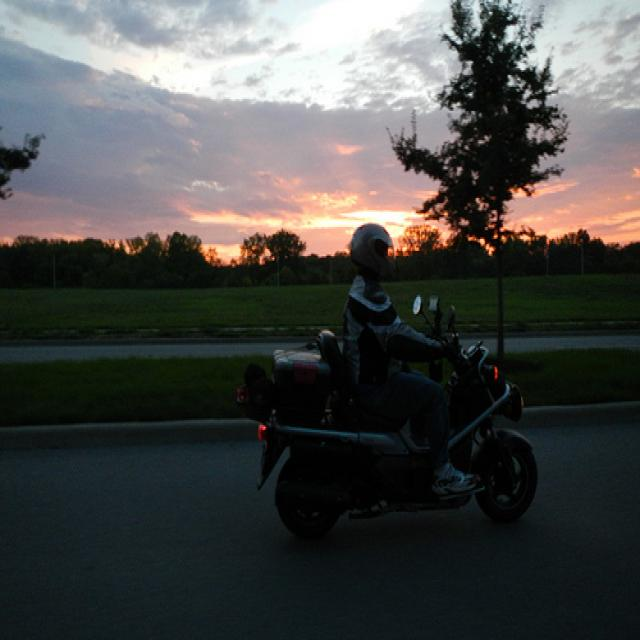Motorbike: (254, 223, 542, 579)
